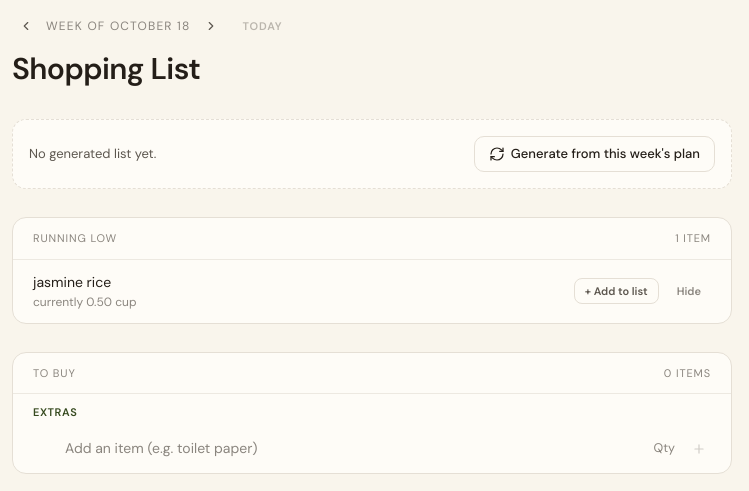
it: ShoppingList low-stock add › adds the low-stock item to the list as a custom item
What coordinates should you click on to do the following:
click the button "+ Add to list"
I would click on:
 (616, 291)
Its box is [574, 278, 659, 304].
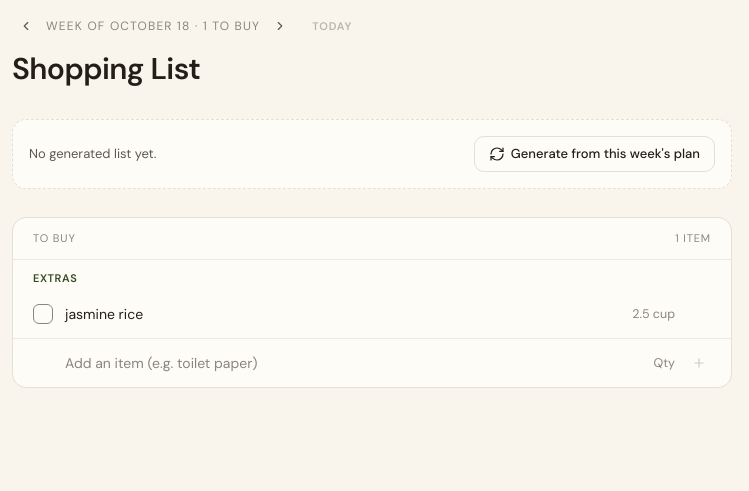
Expected: the text "jasmine rice" is shown, [65, 304, 143, 322]
Result: the text "2.5 cup" is shown at [632, 305, 675, 323]
Result: the button "Add to list" is gone
